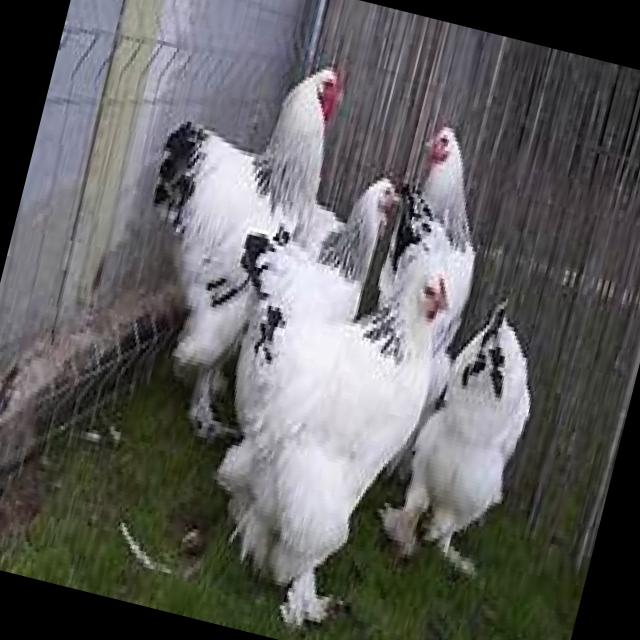chicken: (178, 224, 450, 640), (94, 28, 352, 454), (364, 276, 556, 586)
